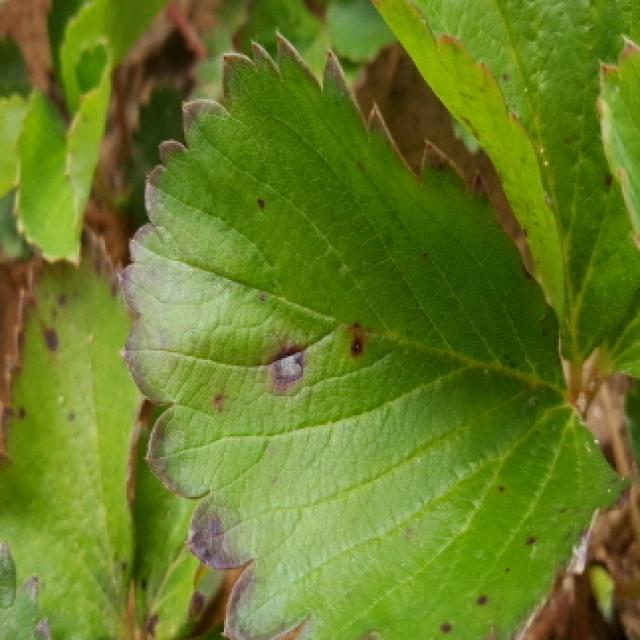Leaf Spot: (116, 29, 633, 640), (372, 0, 640, 369), (0, 223, 153, 640), (127, 404, 242, 640)
